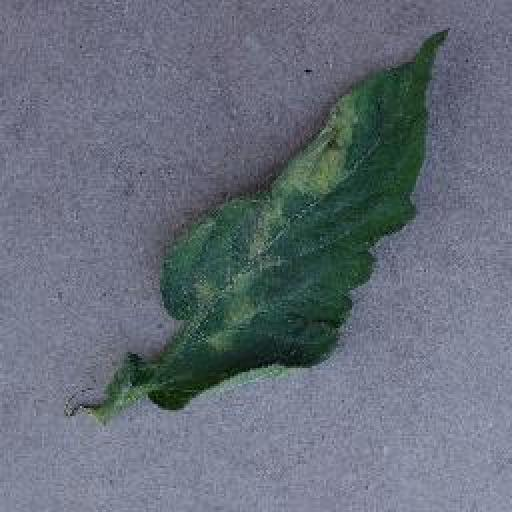Leaf Mold: (138, 27, 451, 412)
